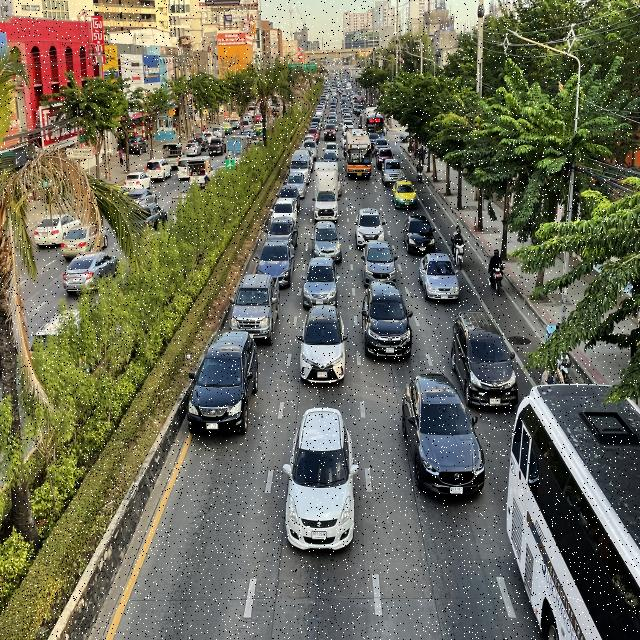bike: (487, 242, 505, 298), (451, 218, 470, 270)
bus: (344, 126, 375, 182)
truck: (311, 160, 341, 223)
